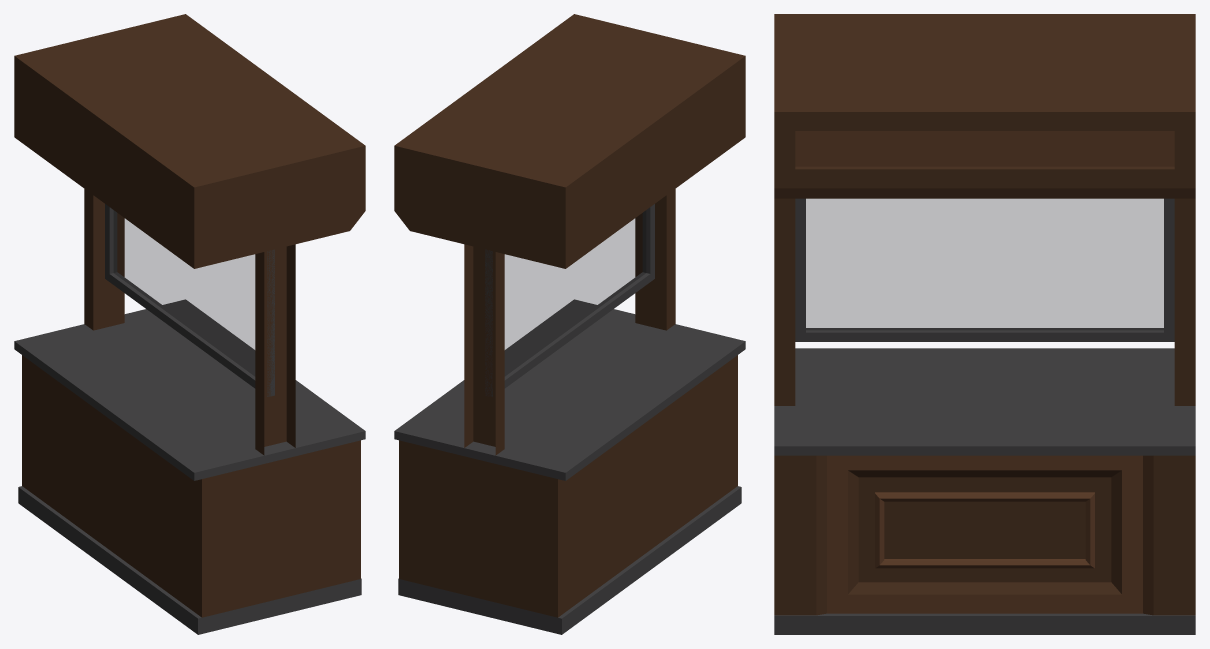
The model's file is SM_Counter_02.glb.
3 views of the same model, side by side, from view 1: azimuth 30°, elevation 25°; view 2: azimuth 150°, elevation 25°; view 3: azimuth 270°, elevation 25° (orthographic). The views are drawn at different scales.
Visible parts, largest first — view 1: SM_Counter_02; view 2: SM_Counter_02; view 3: SM_Counter_02.
Part boxes in pixels (x1,y1,x2,y2): SM_Counter_02: (14, 14, 365, 634); SM_Counter_02: (394, 14, 745, 634); SM_Counter_02: (774, 14, 1195, 634).
Bounding box in the file's own units: 1.1 × 2.75 × 2.
2 materials, 1 textured.
